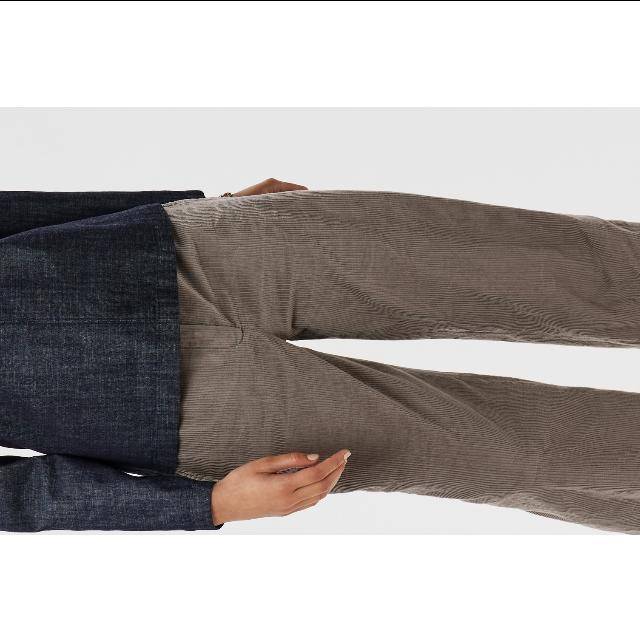denim: (1, 202, 176, 518)
